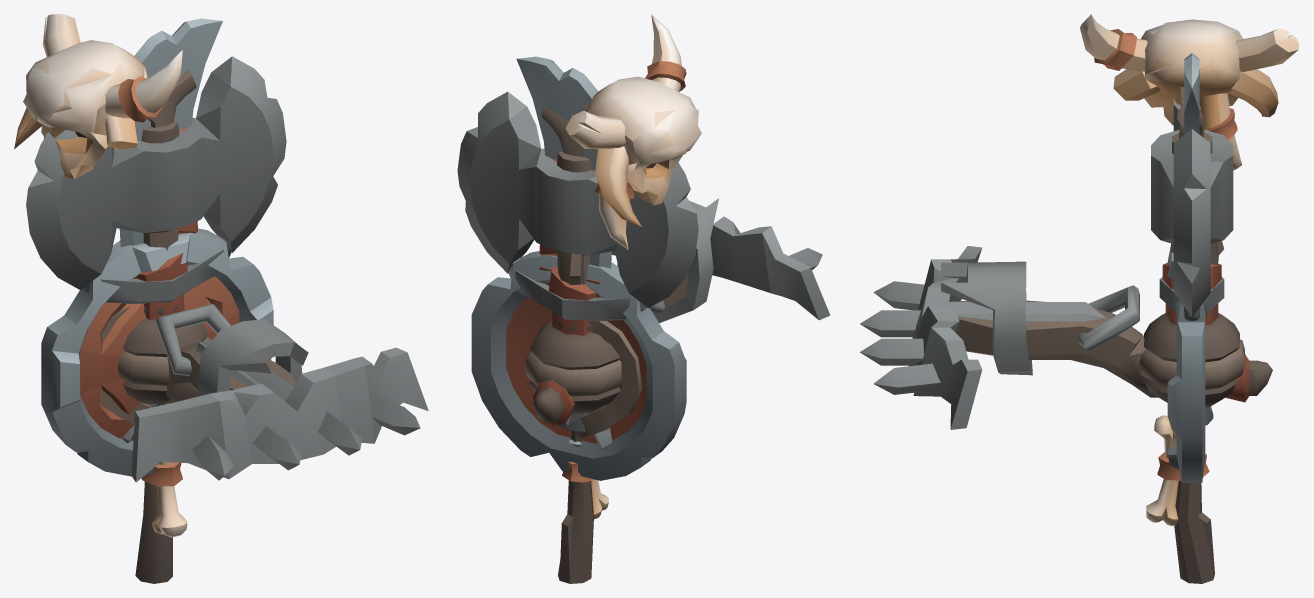
Rendered from gear.glb.
3 renders of one model, left to right at view 1: azimuth 30°, elevation 25°; view 2: azimuth 150°, elevation 25°; view 3: azimuth 270°, elevation 25°, orthographic. The views are drawn at different scales.
Visible parts, largest first — view 1: Skeleton_Axe, Skeleton_Crossbow, Skeleton_Shield_Small_A, Skeleton_Staff, Skeleton_Blade, smokebomb; view 2: Skeleton_Axe, Skeleton_Shield_Small_A, Skeleton_Staff, Skeleton_Crossbow, Skeleton_Blade, smokebomb; view 3: Skeleton_Crossbow, Skeleton_Staff, Skeleton_Axe, Skeleton_Shield_Small_A, smokebomb, Skeleton_Blade.
Part boxes in pixels (box(x1,y1,x2,y2)): Skeleton_Axe: box(26, 56, 286, 407); Skeleton_Crossbow: box(131, 304, 428, 482); Skeleton_Shield_Small_A: box(41, 228, 273, 476); Skeleton_Staff: box(14, 14, 196, 583); Skeleton_Blade: box(82, 18, 231, 443); smokebomb: box(117, 304, 209, 404); Skeleton_Axe: box(457, 91, 698, 431); Skeleton_Shield_Small_A: box(471, 251, 686, 480); Skeleton_Staff: box(541, 14, 701, 583); Skeleton_Crossbow: box(533, 198, 830, 425); Skeleton_Blade: box(508, 56, 646, 450); smokebomb: box(524, 321, 621, 413); Skeleton_Crossbow: box(860, 246, 1272, 429); Skeleton_Staff: box(1080, 14, 1299, 583); Skeleton_Axe: box(1151, 99, 1233, 425); Skeleton_Shield_Small_A: box(1167, 245, 1205, 482); smokebomb: box(1139, 310, 1244, 407); Skeleton_Blade: box(1159, 53, 1224, 320).
Bounding box in the file's own units: 1.11 × 2.1 × 1.51.
2 materials, 2 textured.
